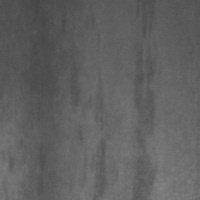inclusion: (128, 0, 165, 199), (80, 60, 112, 199), (29, 132, 59, 199), (63, 34, 86, 113), (132, 0, 157, 41)
